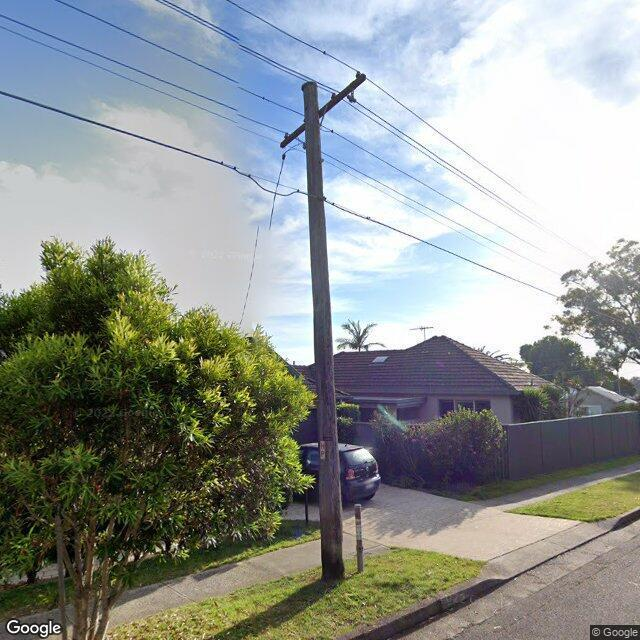crossarm: (278, 70, 366, 149)
timber-pole: (302, 80, 344, 582)
